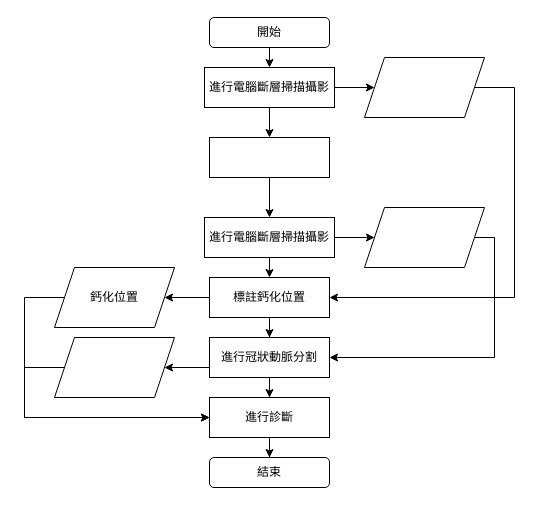
The diagram is 540 pixels wide and 505 high, and some of its shapes have lost their labels. Here are the shapes that lost their labels. From the top down, the centre of each, then its label:
At [424,87]: "無顯影劑之電腦 斷層掃描影像".
At [269,157]: "注射顯影劑".
At [424,237]: "有顯影劑之電腦 斷層掃描影像".
At [114,367]: "冠狀動脈結構".
